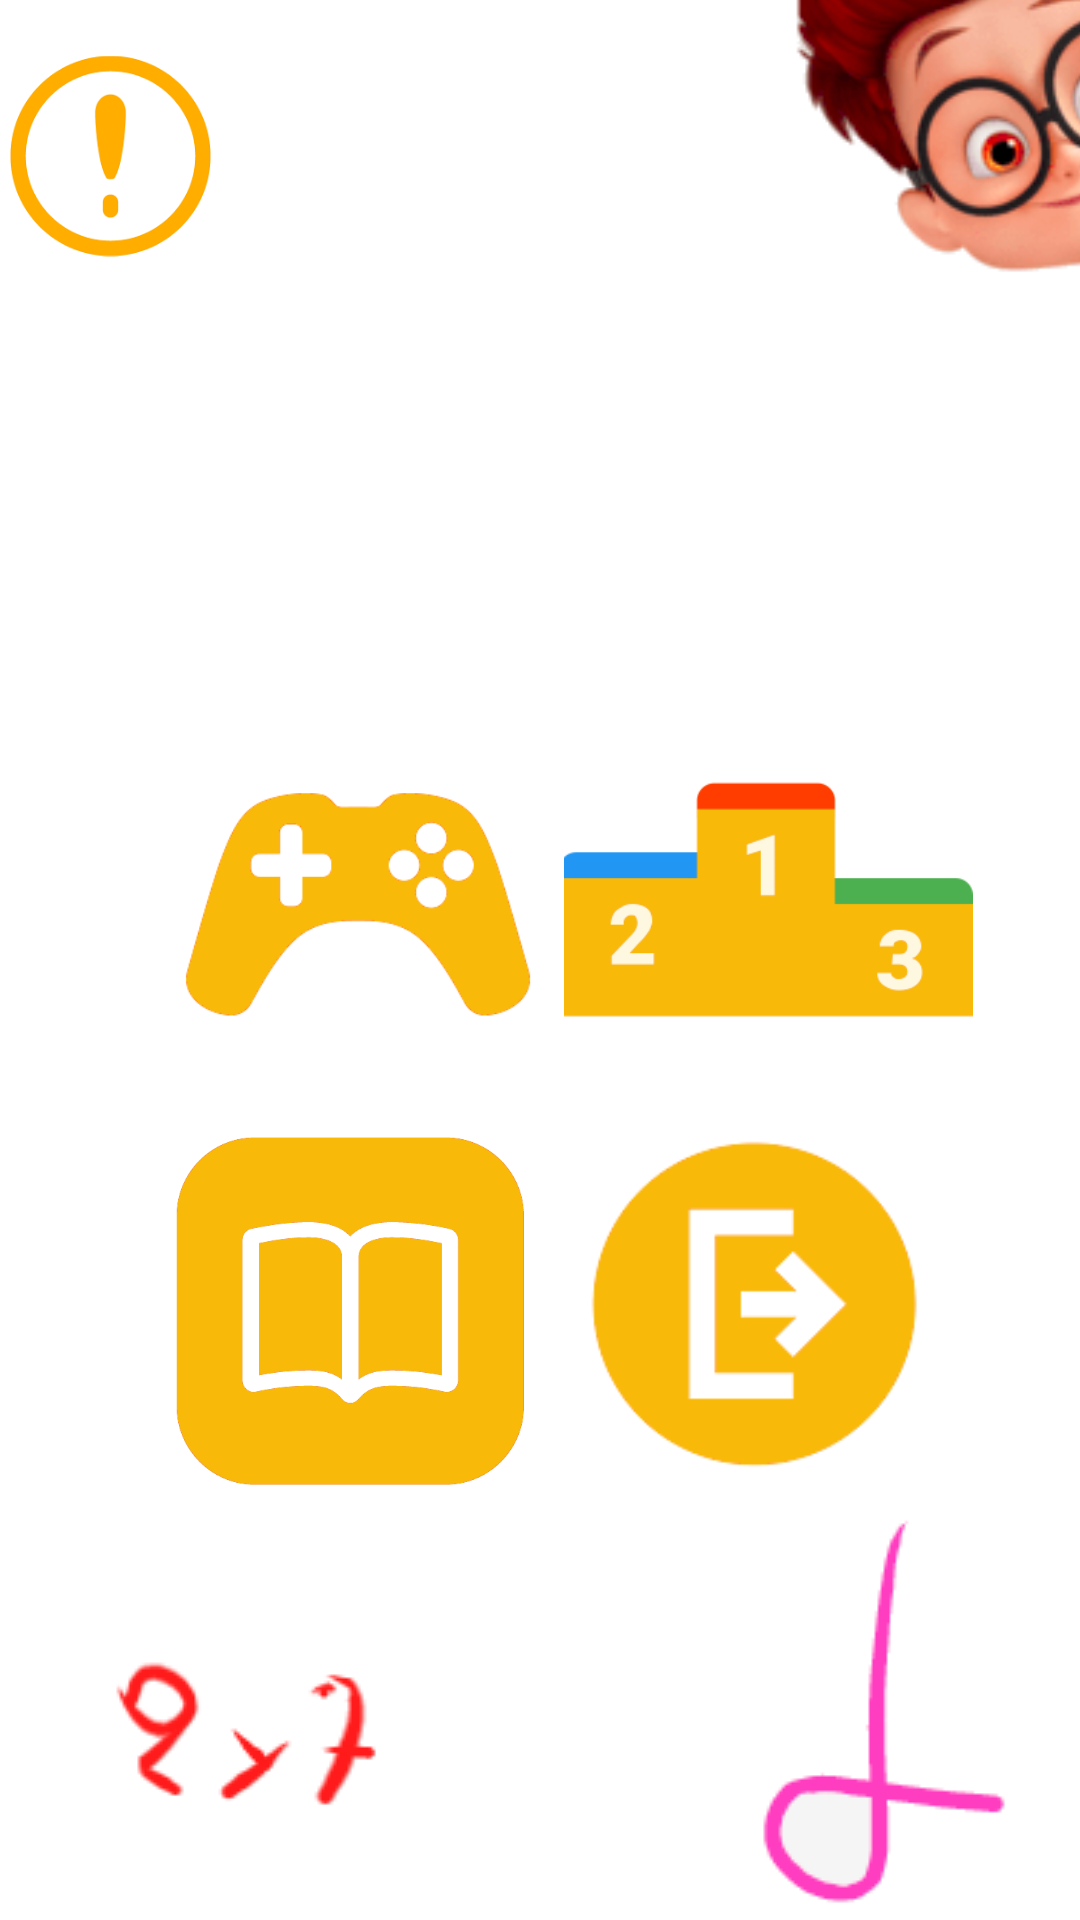

Icons on this 1080 x 1920 Android screen, each with the point to tap as point (x, y):
book: point (350, 1311)
